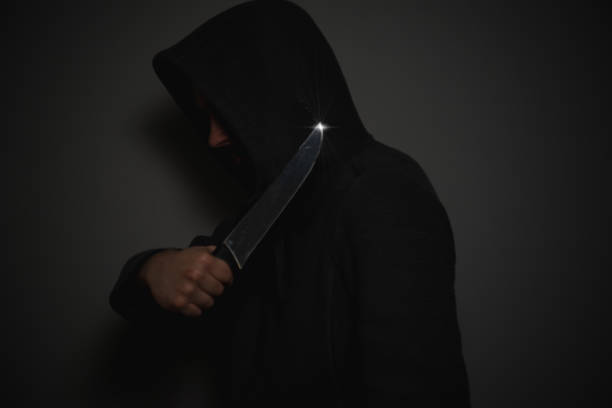knife: (212, 118, 327, 278)
